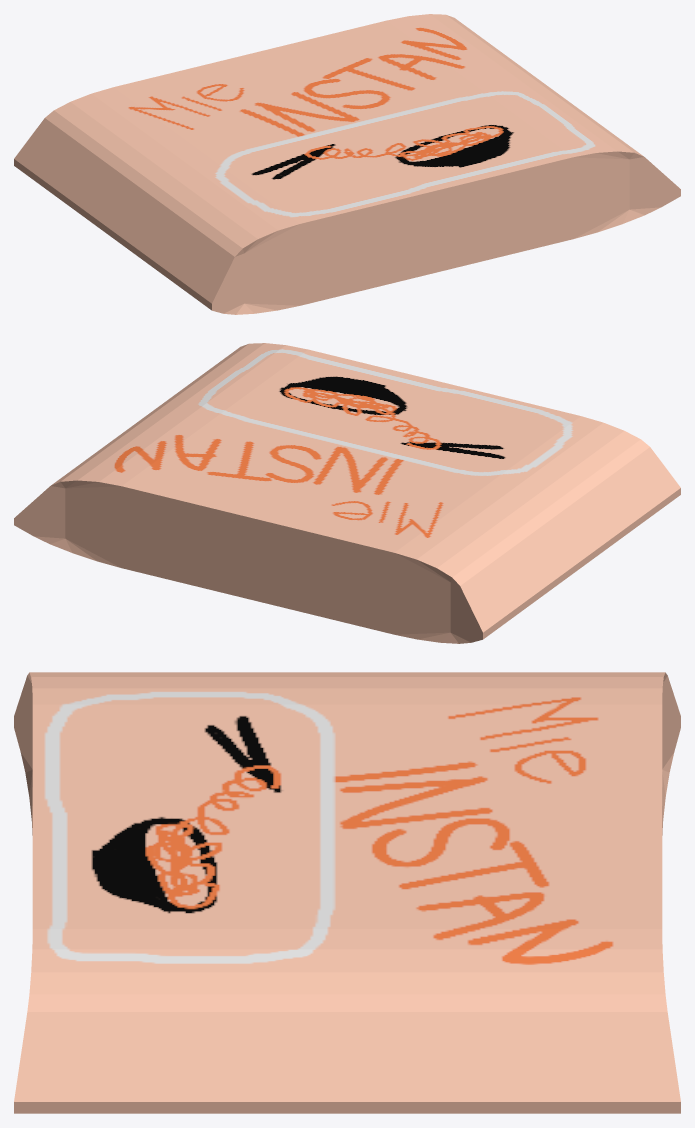
File: Collectible Item.fbx_Instan_Noodle.fbx
The picture shows the model from 3 angles, top to bottom: view 1: azimuth 30°, elevation 25°; view 2: azimuth 150°, elevation 25°; view 3: azimuth 270°, elevation 25°; orthographic projection. The views are drawn at different scales.
Parts seen in each view (by area): view 1: Instan Noodle; view 2: Instan Noodle; view 3: Instan Noodle.
Part boxes in pixels (<box>): Instan Noodle: <box>14,14,680,314</box>; Instan Noodle: <box>14,343,680,643</box>; Instan Noodle: <box>14,672,680,1113</box>.
Size of the model in its own units: 2.9 by 0.4842 by 2.12.
Materials: 1 (1 with a texture image).
